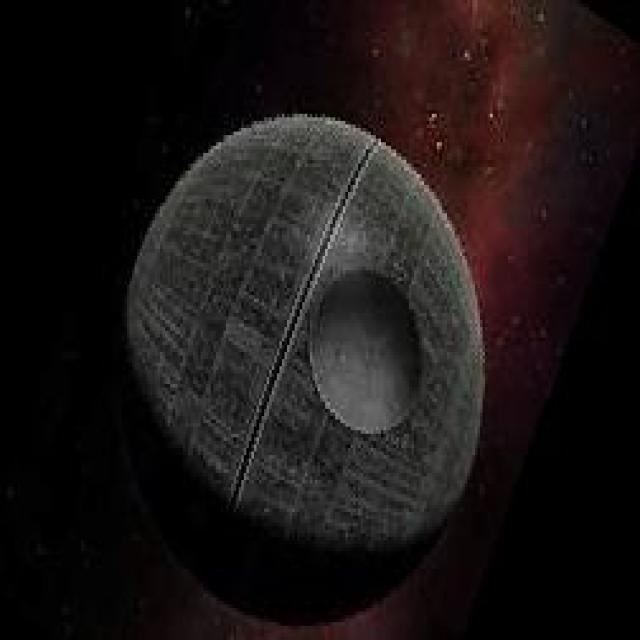Death Star: (121, 118, 487, 612)
